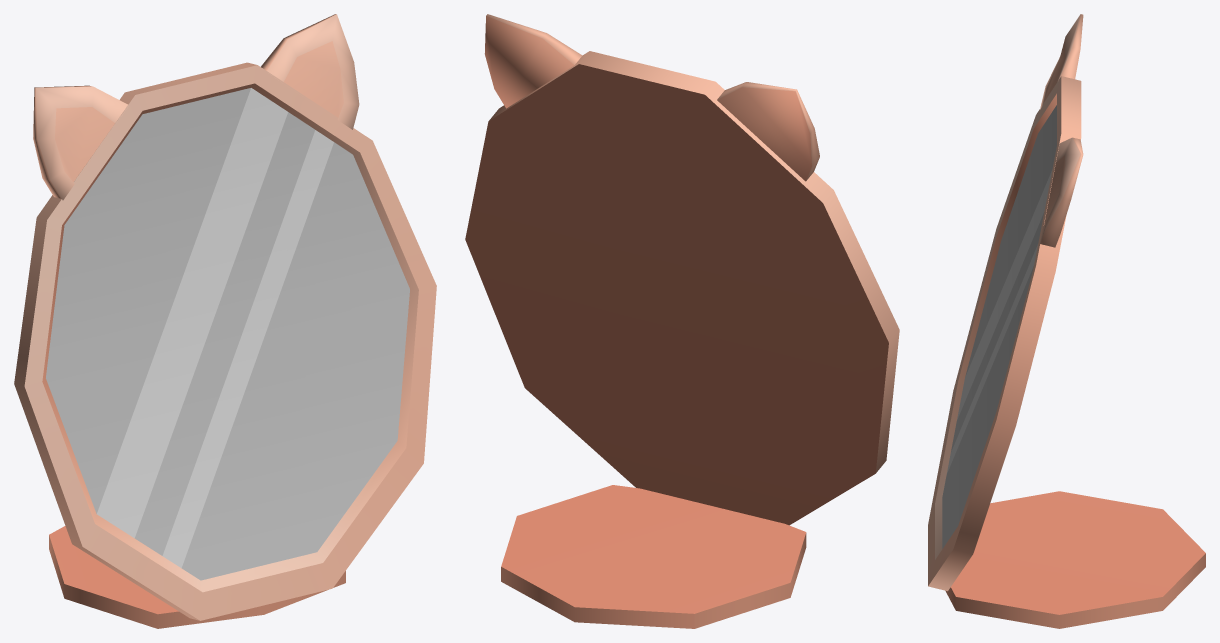
The model's file is CR_Mirror_003.FBX.
3 views of the same model, side by side, from view 1: azimuth 30°, elevation 25°; view 2: azimuth 150°, elevation 25°; view 3: azimuth 270°, elevation 25° (orthographic). The views are drawn at different scales.
Parts seen in each view (by area): view 1: CR_Mirror_003; view 2: CR_Mirror_003; view 3: CR_Mirror_003.
Part boxes in pixels (x1=…): CR_Mirror_003: x1=14, y1=14, x2=436, y2=628; CR_Mirror_003: x1=465, y1=14, x2=899, y2=628; CR_Mirror_003: x1=928, y1=14, x2=1205, y2=628.
Bounding box in the file's own units: 13.43 × 15.78 × 8.23.
Materials: 1 (1 with a texture image).
